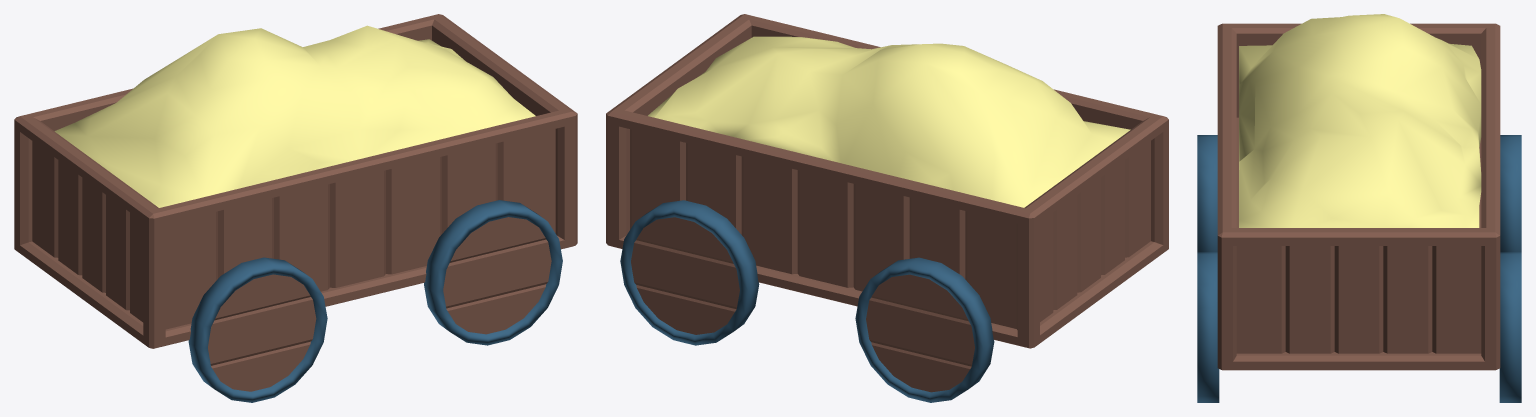
Rendered from wagon.fbx.
3 views of the same model, side by side, from view 1: azimuth 30°, elevation 25°; view 2: azimuth 150°, elevation 25°; view 3: azimuth 270°, elevation 25° (orthographic). The views are drawn at different scales.
Visible parts, largest first — view 1: wagon; view 2: wagon; view 3: wagon.
Boxes of the visible parts, x1,y1,x2,y2 form: wagon: (14,14,577,402); wagon: (606,14,1168,402); wagon: (1197,14,1521,402).
Size of the model in its own units: 536 by 338 by 344.
